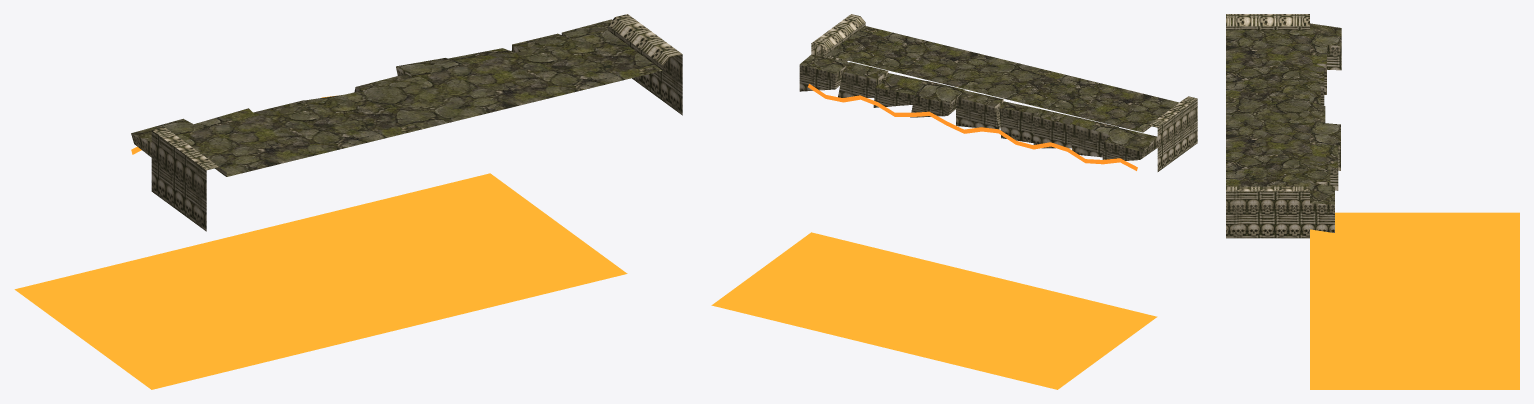
Rendered from gap_edge.glb.
3 views of the same model, side by side, from view 1: azimuth 30°, elevation 25°; view 2: azimuth 150°, elevation 25°; view 3: azimuth 270°, elevation 25° (orthographic). The views are drawn at different scales.
Parts seen in each view (by area): view 1: void_glow, gap_edge_floor; view 2: void_glow, gap_edge_floor; view 3: void_glow, gap_edge_floor.
Boxes of the visible parts, <box> form: void_glow: <box>14,95,627,389</box>; gap_edge_floor: <box>131,14,682,231</box>; void_glow: <box>711,83,1157,389</box>; gap_edge_floor: <box>799,14,1197,171</box>; void_glow: <box>1310,212,1519,389</box>; gap_edge_floor: <box>1226,14,1341,238</box>.
Size of the model in its own units: 6 by 3.13 by 4.2.
4 materials, 2 textured.
